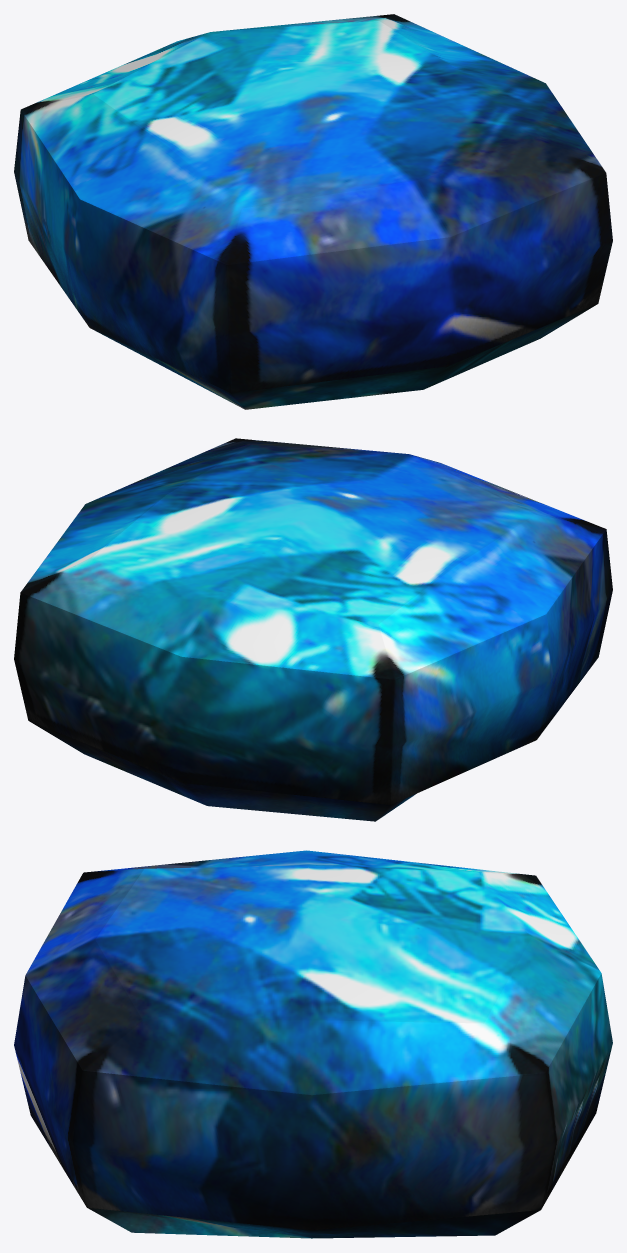
The model's file is zalesRing_jewel_cut.obj.
The picture shows the model from 3 angles, top to bottom: view 1: azimuth 30°, elevation 25°; view 2: azimuth 150°, elevation 25°; view 3: azimuth 270°, elevation 25°; orthographic projection. The views are drawn at different scales.
Parts seen in each view (by area): view 1: zalesRing_jewel:Ring zalesRing_jewel:polySurface2 zalesRing_jewe; view 2: zalesRing_jewel:Ring zalesRing_jewel:polySurface2 zalesRing_jewe; view 3: zalesRing_jewel:Ring zalesRing_jewel:polySurface2 zalesRing_jewe.
Part boxes in pixels (<box>): zalesRing_jewel:Ring zalesRing_jewel:polySurface2 zalesRing_jewe: <box>14,14,612,409</box>; zalesRing_jewel:Ring zalesRing_jewel:polySurface2 zalesRing_jewe: <box>14,438,612,821</box>; zalesRing_jewel:Ring zalesRing_jewel:polySurface2 zalesRing_jewe: <box>14,850,612,1238</box>.
Size of the model in its own units: 3.62 by 1.97 by 3.68.
Materials: 1 (1 with a texture image).
